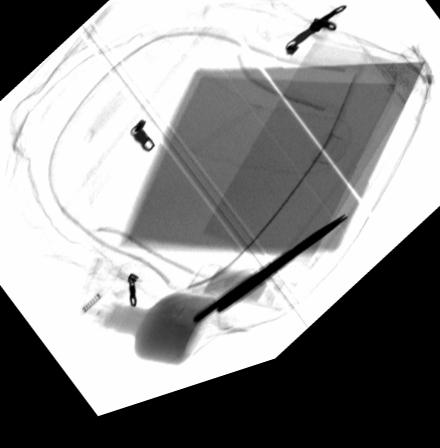Pliers: (190, 235, 350, 337)
